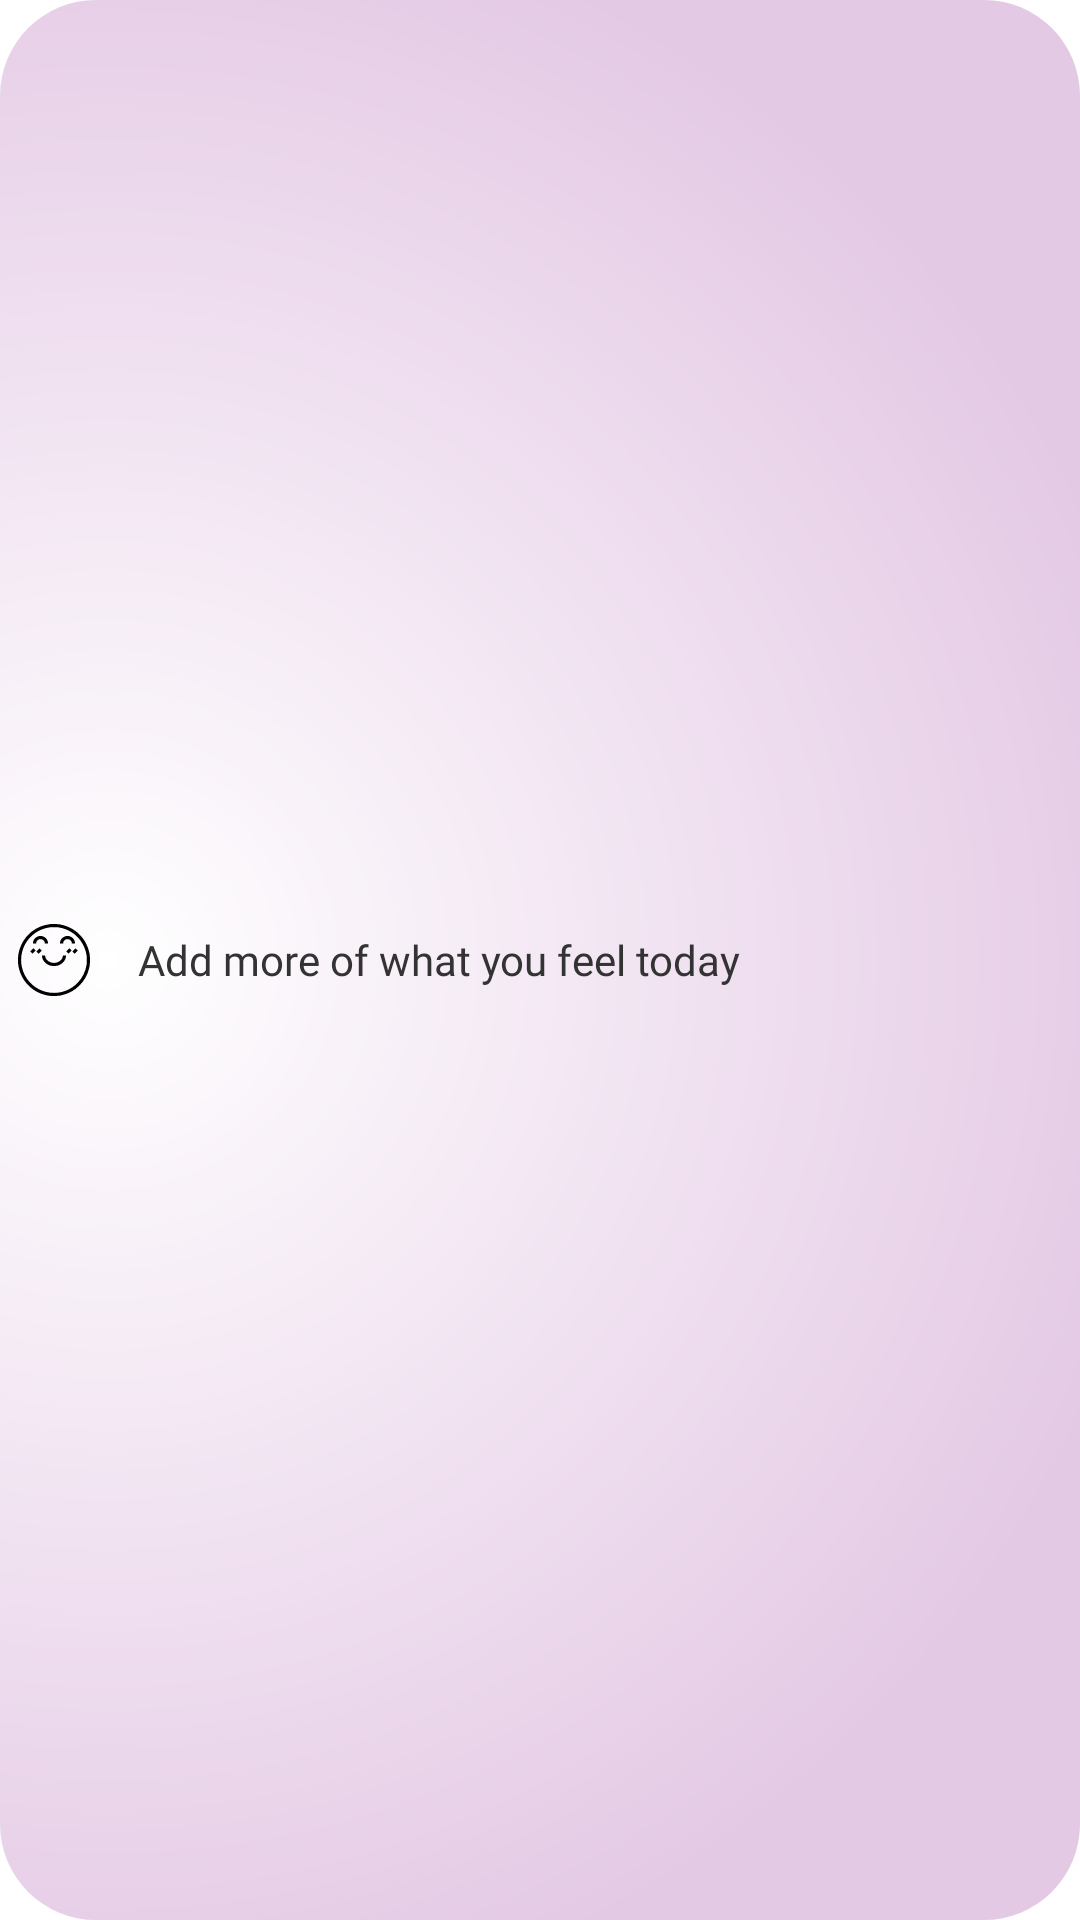

Locate icon controls on the screen. Image size 1080×1920, boxes as (x1, y1, x2, y2).
shy: (18, 924, 90, 996)
